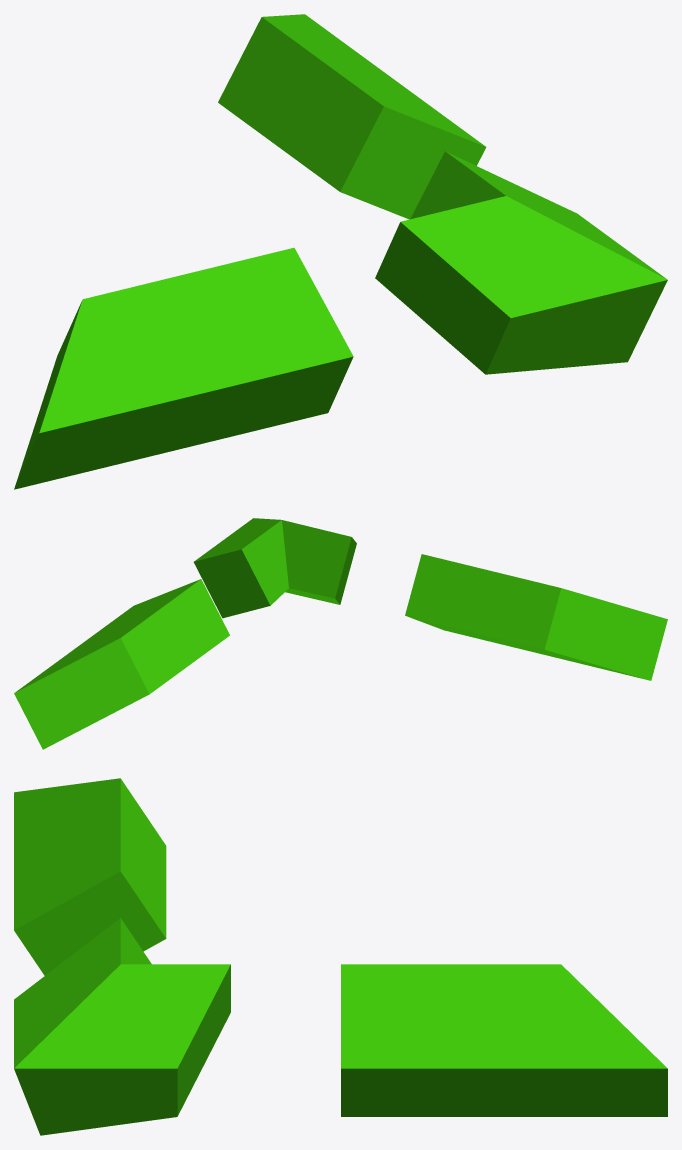
File: green10.obj
3 renders of one model, top to bottom at view 1: azimuth 30°, elevation 25°; view 2: azimuth 150°, elevation 25°; view 3: azimuth 270°, elevation 25°, orthographic. The views are drawn at different scales.
Parts seen in each view (by area): view 1: plilla0.012; view 2: plilla0.012; view 3: plilla0.012.
Boxes of the visible parts, <box> form: plilla0.012: <box>14,14,667,489</box>; plilla0.012: <box>14,518,667,749</box>; plilla0.012: <box>14,778,667,1135</box>.
Size of the model in its own units: 1.72 by 0.399 by 1.72.
